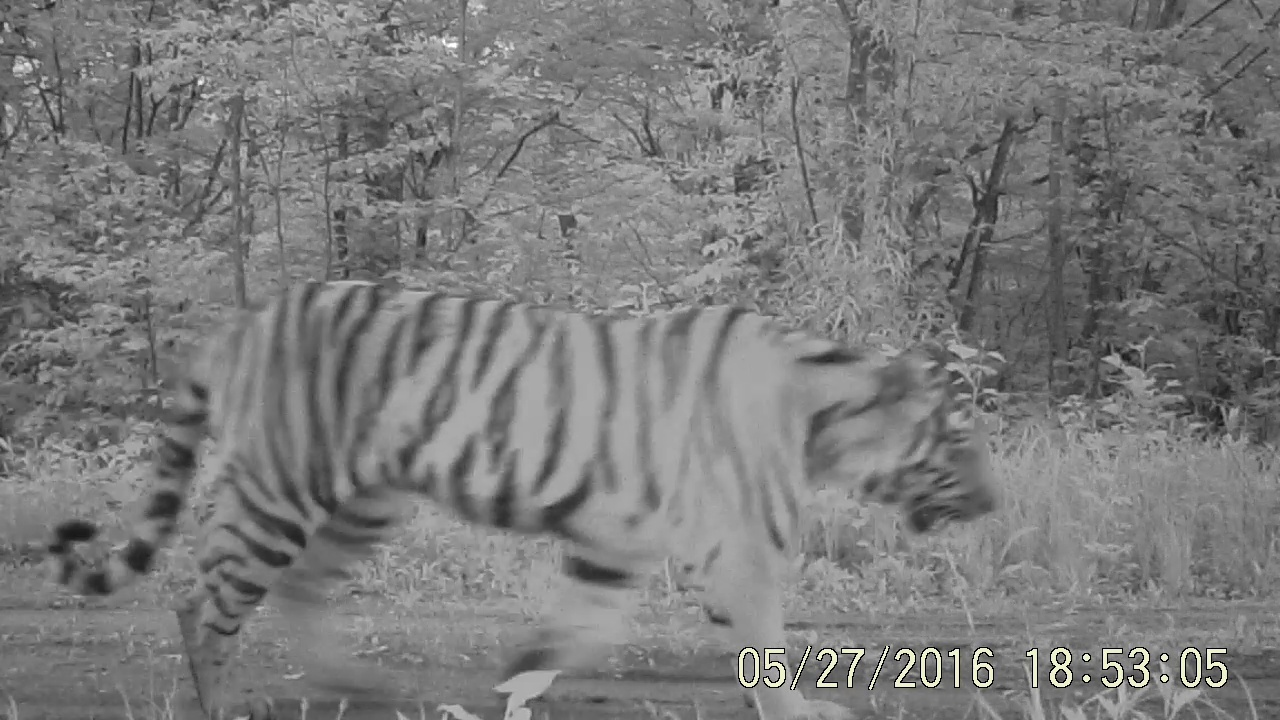Tiger: (37, 134, 1030, 720)
